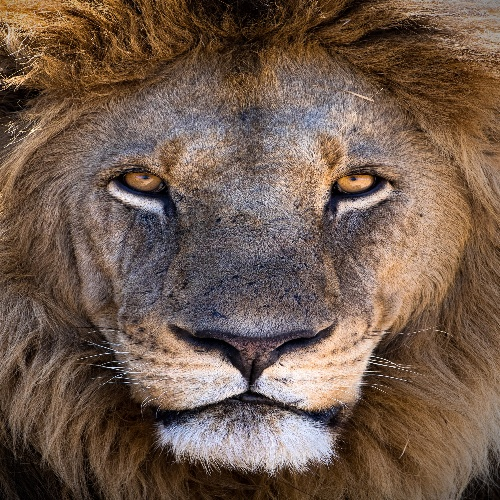lion: (1, 1, 498, 497)
